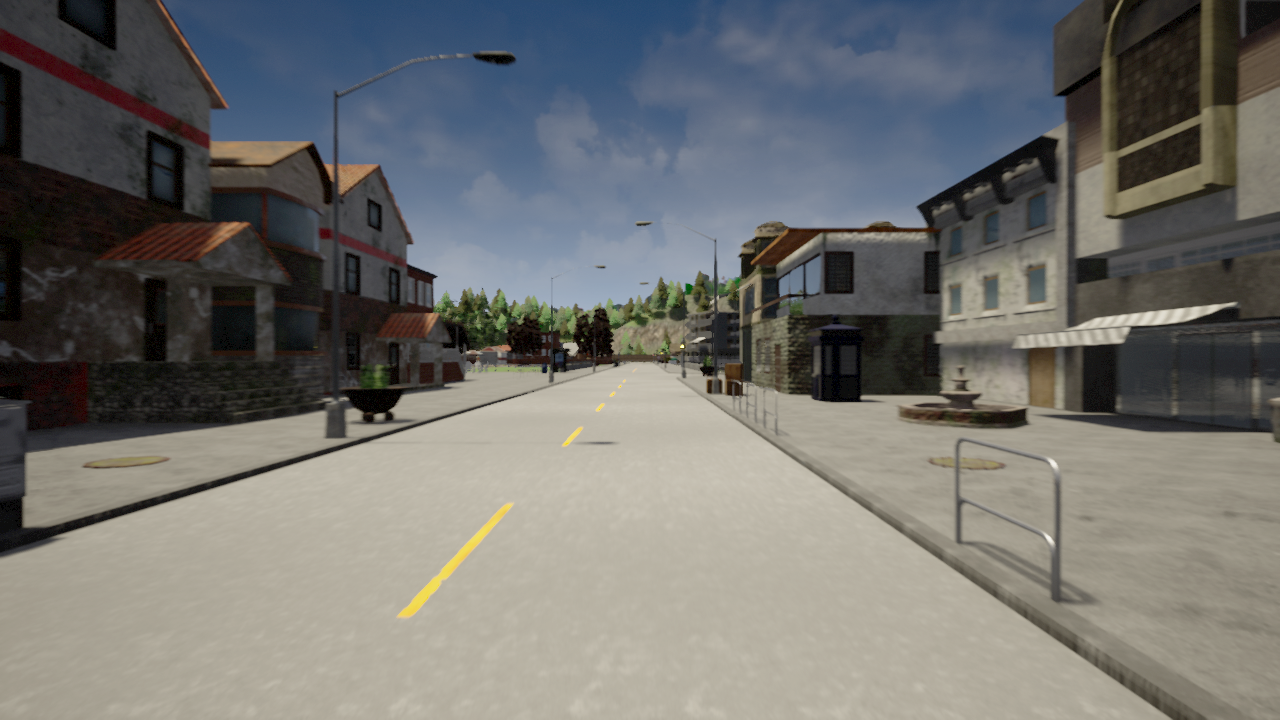yellow: (680, 340, 685, 351)
